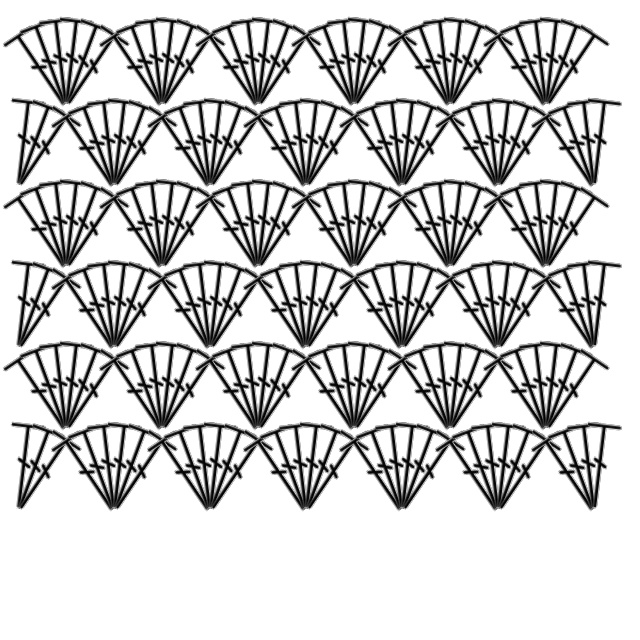double treble: (0, 21, 83, 118), (51, 21, 134, 118), (96, 21, 179, 118), (147, 21, 230, 118), (192, 21, 275, 118), (243, 21, 326, 118), (288, 21, 371, 118), (339, 21, 422, 118), (384, 21, 467, 118), (435, 21, 518, 118), (480, 21, 563, 118), (531, 21, 614, 118), (3, 102, 86, 199), (48, 102, 131, 199), (99, 102, 182, 199), (144, 102, 227, 199), (195, 102, 278, 199), (240, 102, 323, 199), (291, 102, 374, 199), (336, 102, 419, 199), (387, 102, 470, 199), (432, 102, 515, 199), (483, 102, 566, 199), (528, 102, 611, 199), (0, 183, 83, 280), (51, 183, 134, 280), (96, 183, 179, 280), (147, 183, 230, 280), (192, 183, 275, 280), (243, 183, 326, 280), (288, 183, 371, 280), (339, 183, 422, 280), (384, 183, 467, 280), (435, 183, 518, 280), (480, 183, 563, 280), (531, 183, 614, 280), (3, 264, 86, 361), (48, 264, 131, 361), (99, 264, 182, 361), (144, 264, 227, 361), (195, 264, 278, 361), (240, 264, 323, 361), (291, 264, 374, 361), (336, 264, 419, 361), (387, 264, 470, 361), (432, 264, 515, 361), (483, 264, 566, 361), (528, 264, 611, 361), (0, 345, 83, 442), (51, 345, 134, 442), (96, 345, 179, 442), (147, 345, 230, 442), (192, 345, 275, 442), (243, 345, 326, 442), (288, 345, 371, 442), (339, 345, 422, 442), (384, 345, 467, 442), (435, 345, 518, 442), (480, 345, 563, 442), (531, 345, 614, 442), (3, 426, 86, 523), (48, 426, 131, 523), (99, 426, 182, 523), (144, 426, 227, 523), (195, 426, 278, 523), (240, 426, 323, 523), (291, 426, 374, 523), (336, 426, 419, 523), (387, 426, 470, 523), (432, 426, 515, 523), (483, 426, 566, 523), (528, 426, 611, 523), (17, 15, 85, 114), (49, 15, 117, 114), (113, 15, 181, 114), (145, 15, 213, 114), (209, 15, 277, 114), (241, 15, 309, 114), (305, 15, 373, 114), (337, 15, 405, 114), (401, 15, 469, 114), (433, 15, 501, 114), (497, 15, 565, 114), (529, 15, 597, 114), (1, 96, 69, 195), (65, 96, 133, 195), (97, 96, 165, 195), (161, 96, 229, 195), (193, 96, 261, 195), (257, 96, 325, 195), (289, 96, 357, 195), (353, 96, 421, 195), (385, 96, 453, 195), (449, 96, 517, 195), (481, 96, 549, 195), (545, 96, 613, 195), (17, 177, 85, 276), (49, 177, 117, 276), (113, 177, 181, 276), (145, 177, 213, 276), (209, 177, 277, 276), (241, 177, 309, 276), (305, 177, 373, 276), (337, 177, 405, 276), (401, 177, 469, 276), (433, 177, 501, 276), (497, 177, 565, 276), (529, 177, 597, 276), (1, 258, 69, 357), (65, 258, 133, 357), (97, 258, 165, 357), (161, 258, 229, 357), (193, 258, 261, 357), (257, 258, 325, 357), (289, 258, 357, 357), (353, 258, 421, 357), (385, 258, 453, 357), (449, 258, 517, 357), (481, 258, 549, 357), (545, 258, 613, 357), (17, 339, 85, 438), (49, 339, 117, 438), (113, 339, 181, 438), (145, 339, 213, 438), (209, 339, 277, 438), (241, 339, 309, 438), (305, 339, 373, 438), (337, 339, 405, 438), (401, 339, 469, 438), (433, 339, 501, 438), (497, 339, 565, 438), (529, 339, 597, 438), (1, 420, 69, 519), (65, 420, 133, 519), (97, 420, 165, 519), (161, 420, 229, 519), (193, 420, 261, 519), (257, 420, 325, 519), (289, 420, 357, 519), (353, 420, 421, 519), (385, 420, 453, 519), (449, 420, 517, 519), (481, 420, 549, 519), (545, 420, 613, 519), (37, 14, 86, 109), (48, 14, 97, 109), (133, 14, 182, 109), (144, 14, 193, 109), (229, 14, 278, 109), (240, 14, 289, 109), (325, 14, 374, 109), (336, 14, 385, 109), (421, 14, 470, 109), (432, 14, 481, 109), (517, 14, 566, 109), (528, 14, 577, 109), (0, 95, 49, 190), (85, 95, 134, 190), (96, 95, 145, 190), (181, 95, 230, 190), (192, 95, 241, 190), (277, 95, 326, 190), (288, 95, 337, 190), (373, 95, 422, 190), (384, 95, 433, 190), (469, 95, 518, 190), (480, 95, 529, 190), (565, 95, 614, 190), (576, 95, 625, 190), (37, 176, 86, 271), (48, 176, 97, 271), (133, 176, 182, 271), (144, 176, 193, 271), (229, 176, 278, 271), (240, 176, 289, 271), (325, 176, 374, 271), (336, 176, 385, 271), (421, 176, 470, 271), (432, 176, 481, 271), (517, 176, 566, 271), (528, 176, 577, 271), (0, 257, 49, 352), (85, 257, 134, 352), (96, 257, 145, 352), (181, 257, 230, 352), (192, 257, 241, 352), (277, 257, 326, 352), (288, 257, 337, 352), (373, 257, 422, 352), (384, 257, 433, 352), (469, 257, 518, 352), (480, 257, 529, 352), (565, 257, 614, 352), (576, 257, 625, 352), (37, 338, 86, 433), (48, 338, 97, 433), (133, 338, 182, 433), (144, 338, 193, 433), (229, 338, 278, 433), (240, 338, 289, 433), (325, 338, 374, 433), (336, 338, 385, 433), (421, 338, 470, 433), (432, 338, 481, 433), (517, 338, 566, 433), (528, 338, 577, 433), (0, 419, 49, 514), (85, 419, 134, 514), (96, 419, 145, 514), (181, 419, 230, 514), (192, 419, 241, 514), (277, 419, 326, 514), (288, 419, 337, 514), (373, 419, 422, 514), (384, 419, 433, 514), (469, 419, 518, 514), (480, 419, 529, 514), (565, 419, 614, 514), (576, 419, 625, 514)
